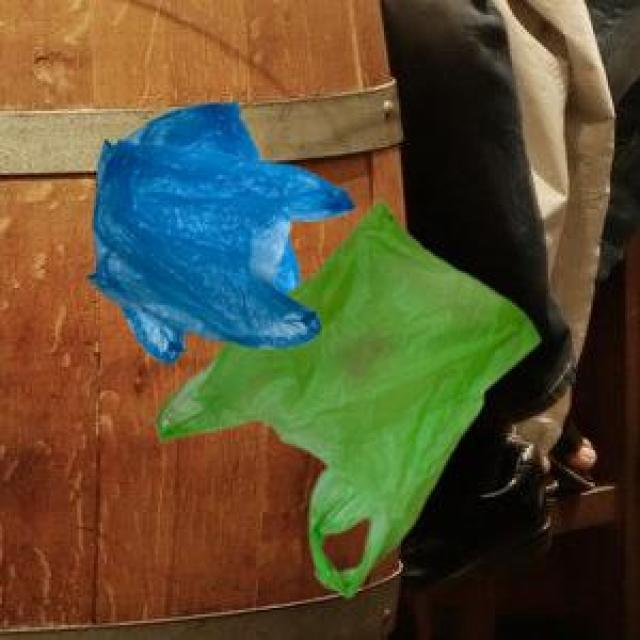waste: (92, 104, 539, 597)
